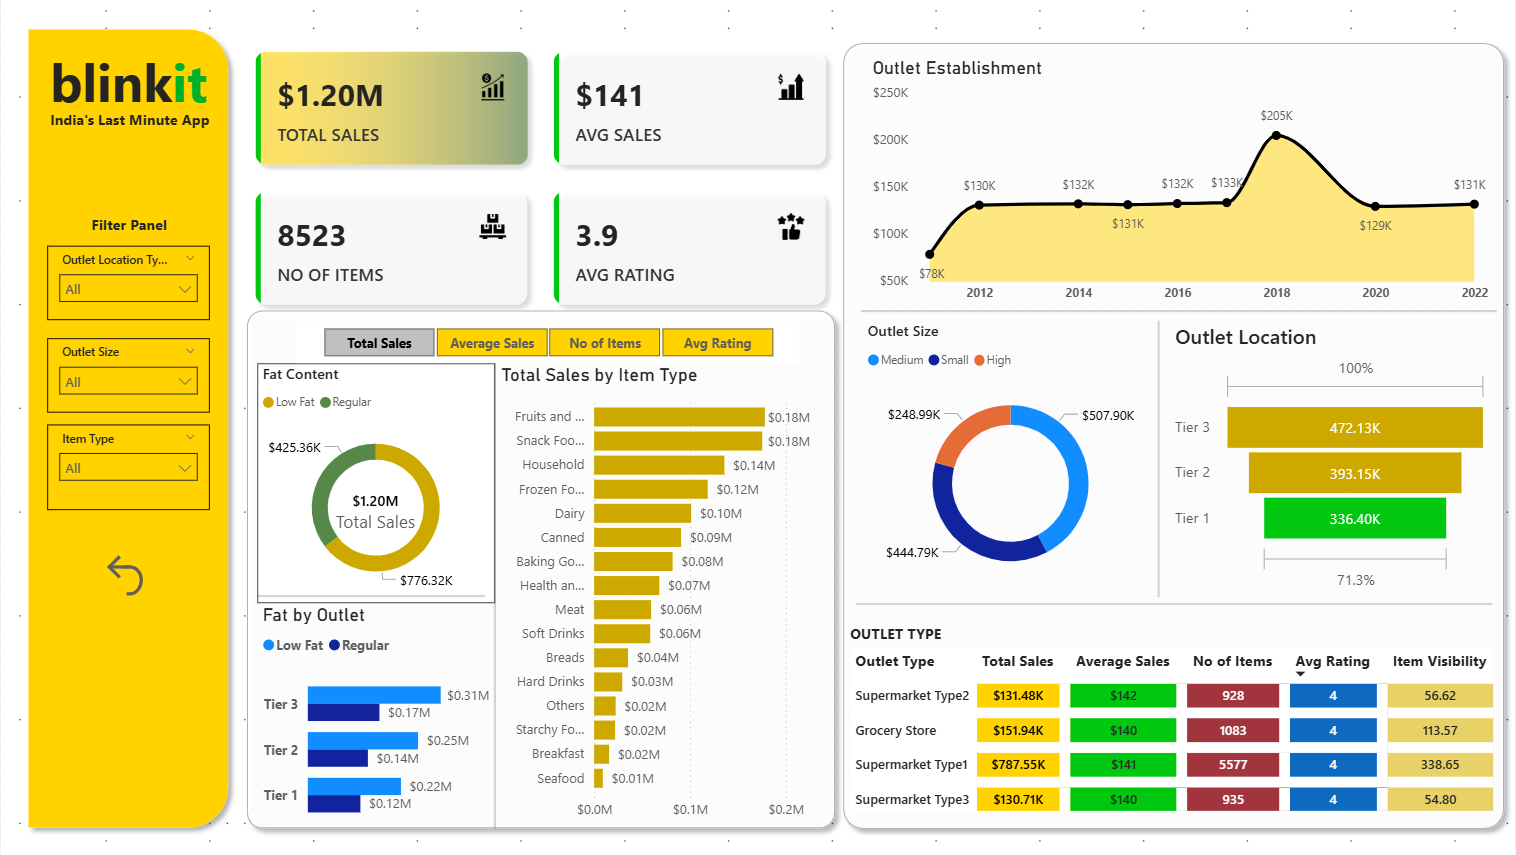

The page's visual inventory and layout, read from the dashboard file:
{"tool":"powerbi","page":{"name":"Page 1","canvas":[1400,800],"ordinal":0},"visuals":[{"type":"shape","box":[16.5,25.4,203.5,758],"z":0},{"type":"textbox","box":[40.5,45,165.1,76.5],"z":1000},{"type":"textbox","box":[40.5,103.6,178.6,34.5],"z":2000},{"type":"cardVisual","fields":{"Data":["BlinkIT Grocery Data.Total Sales","BlinkIT Grocery Data.Average Sales","BlinkIT Grocery Data.No of Items","BlinkIT Grocery Data.Avg Rating"]},"box":[218.8,38.2,562.1,269.6],"z":3000},{"type":"shape","box":[218.8,286.2,562.1,497.3],"z":4000},{"type":"donutChart","title":"Fat Content","fields":{"Y":["BlinkIT Grocery Data.Total Sales"],"Category":["BlinkIT Grocery Data.Item Fat Content"]},"box":[236.6,343.4,220,222.6],"z":5000},{"type":"slicer","fields":{"Values":["Metrics.Metrics"]},"box":[273.4,304,465.5,39.4],"z":6000},{"type":"cardVisual","fields":{"Data":["BlinkIT Grocery Data.Total Sales"]},"box":[292.5,443.9,108.1,61],"z":7000},{"type":"clusteredBarChart","title":"Fat by Outlet","fields":{"Y":["BlinkIT Grocery Data.Total Sales"],"Category":["BlinkIT Grocery Data.Outlet Location Type"],"Series":["BlinkIT Grocery Data.Item Fat Content"]},"box":[236.6,566,220,217.5],"z":8000},{"type":"shape","box":[236.6,465.5,211.1,188.2],"z":9000},{"type":"barChart","fields":{"Y":["BlinkIT Grocery Data.Total Sales"],"Category":["BlinkIT Grocery Data.Item Type"]},"box":[457.9,343.4,312.9,431.1],"z":10000},{"type":"shape","box":[347.2,343.4,220,431.1],"z":11000},{"type":"shape","box":[770.7,38.2,629.5,745.3],"z":12000},{"type":"lineChart","title":"Outlet Establishment","fields":{"Y":["BlinkIT Grocery Data.Total Sales"],"Category":["BlinkIT Grocery Data.Outlet Establishment Year"]},"box":[801.2,59.8,579.9,235.3],"z":13000},{"type":"shape","box":[796.2,200.9,588.8,188.2],"z":14000},{"type":"donutChart","title":"Outlet Size","fields":{"Y":["BlinkIT Grocery Data.Total Sales"],"Category":["BlinkIT Grocery Data.Outlet Size"]},"box":[796.5,303.7,274.7,255.8],"z":15000},{"type":"funnel","title":"Outlet Location","fields":{"Category":["BlinkIT Grocery Data.Outlet Location Type"],"Y":["Sum(BlinkIT Grocery Data.Sales)"]},"box":[1081.3,305,299.9,254.6],"z":16000},{"type":"shape","box":[961.5,304,220,255.6],"z":17000},{"type":"pivotTable","title":"OUTLET TYPE","fields":{"Values":["BlinkIT Grocery Data.Total Sales","BlinkIT Grocery Data.Average Sales","BlinkIT Grocery Data.No of Items","BlinkIT Grocery Data.Avg Rating","Sum(BlinkIT Grocery Data.Item Visibility)"],"Rows":["BlinkIT Grocery Data.Outlet Type"]},"box":[780.9,583.8,610.5,216.2],"z":18000},{"type":"slicer","fields":{"Values":["BlinkIT Grocery Data.Outlet Location Type"]},"box":[43.2,235.3,150.1,68.7],"z":19000},{"type":"slicer","fields":{"Values":["BlinkIT Grocery Data.Outlet Size"]},"box":[43.2,320.5,150.1,68.7],"z":20000},{"type":"slicer","fields":{"Values":["BlinkIT Grocery Data.Item Type"]},"box":[43.2,400.6,150.1,78.9],"z":21000},{"type":"textbox","box":[66.1,200.9,105.6,29.3],"z":22000},{"type":"shape","box":[791.4,471.3,588.5,189],"z":23000},{"type":"actionButton","box":[70.4,496.6,93.4,87],"z":24000}]}

Visuals, with their boxes in screenshot pixels (x1, y1, x2, y2), scaled from the page's 1400x800 canvas onto the 1516x855 screenshot:
shape: Rect(18, 27, 238, 837)
textbox: Rect(44, 48, 223, 130)
textbox: Rect(44, 111, 237, 148)
cardVisual - BlinkIT Grocery Data.Total Sales x BlinkIT Grocery Data.Average Sales: Rect(237, 41, 846, 329)
shape: Rect(237, 306, 846, 837)
"Fat Content" donutChart: Rect(256, 367, 494, 605)
slicer - Metrics.Metrics: Rect(296, 325, 800, 367)
cardVisual - BlinkIT Grocery Data.Total Sales: Rect(317, 474, 434, 540)
"Fat by Outlet" clusteredBarChart: Rect(256, 605, 494, 837)
shape: Rect(256, 498, 485, 699)
barChart - BlinkIT Grocery Data.Total Sales x BlinkIT Grocery Data.Item Type: Rect(496, 367, 835, 828)
shape: Rect(376, 367, 614, 828)
shape: Rect(835, 41, 1515, 837)
"Outlet Establishment" lineChart: Rect(868, 64, 1496, 315)
shape: Rect(862, 215, 1500, 416)
"Outlet Size" donutChart: Rect(862, 325, 1160, 598)
"Outlet Location" funnel: Rect(1171, 326, 1496, 598)
shape: Rect(1041, 325, 1279, 598)
"OUTLET TYPE" pivotTable: Rect(846, 624, 1507, 854)
slicer - BlinkIT Grocery Data.Outlet Location Type: Rect(47, 251, 209, 325)
slicer - BlinkIT Grocery Data.Outlet Size: Rect(47, 343, 209, 416)
slicer - BlinkIT Grocery Data.Item Type: Rect(47, 428, 209, 512)
textbox: Rect(72, 215, 186, 246)
shape: Rect(857, 504, 1494, 706)
actionButton: Rect(76, 531, 177, 624)
